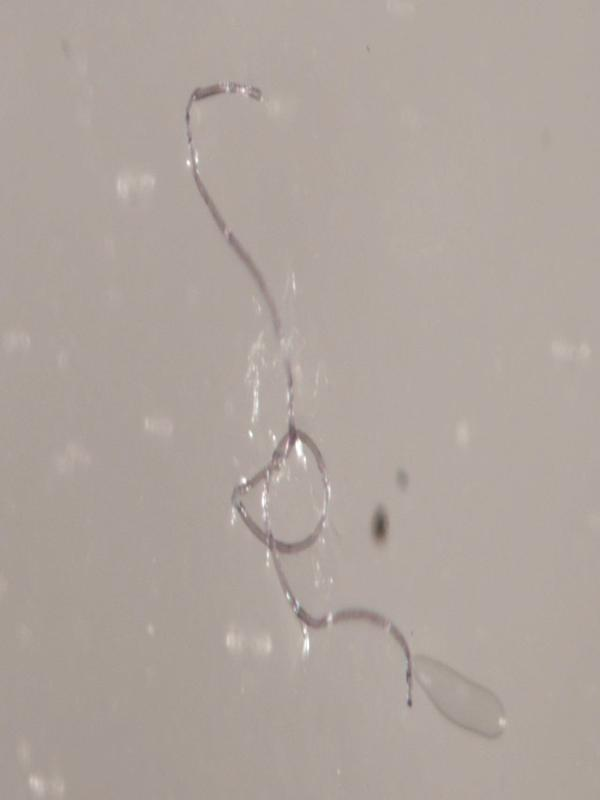microplastic: (184, 76, 508, 738)
